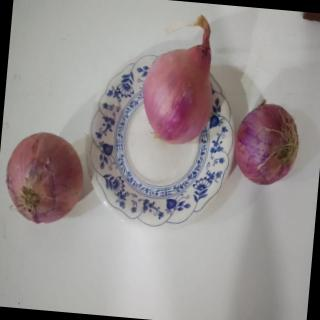Bawang Merah: (137, 8, 224, 151), (1, 127, 91, 229), (230, 98, 307, 192)
